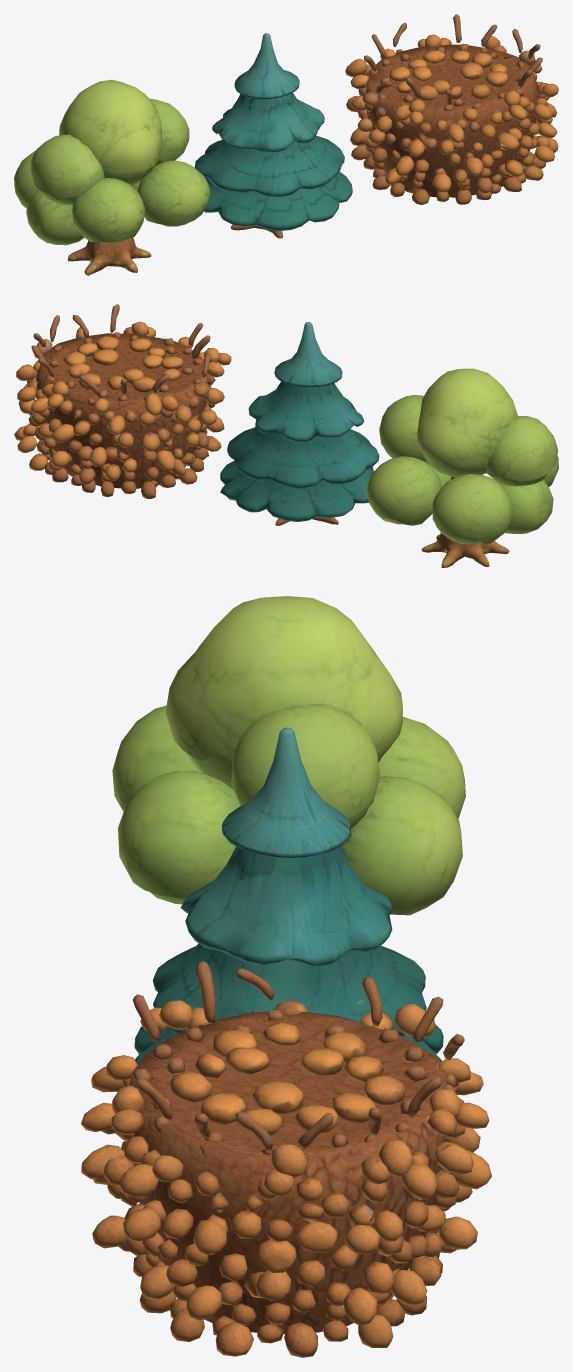
The model's file is arboles_2.glb.
3 views of the same model, one above another, from view 1: azimuth 30°, elevation 25°; view 2: azimuth 150°, elevation 25°; view 3: azimuth 270°, elevation 25° (orthographic). The views are drawn at different scales.
Parts seen in each view (by area): view 1: arbusto_otono, arbol_redondo_2, pino_2; view 2: arbusto_otono, arbol_redondo_2, pino_2; view 3: arbusto_otono, arbol_redondo_2, pino_2.
Boxes of the visible parts, x1,y1,x2,y2 form: arbusto_otono: [345, 14, 558, 204]; arbol_redondo_2: [14, 79, 210, 275]; pino_2: [194, 33, 352, 238]; arbusto_otono: [14, 304, 231, 498]; arbol_redondo_2: [366, 368, 558, 567]; pino_2: [220, 322, 379, 525]; arbusto_otono: [81, 961, 491, 1357]; arbol_redondo_2: [112, 596, 465, 915]; pino_2: [134, 727, 443, 1064].
Bounding box in the file's own units: 1 × 0.36 × 0.3534.
Materials: 1 (1 with a texture image).
